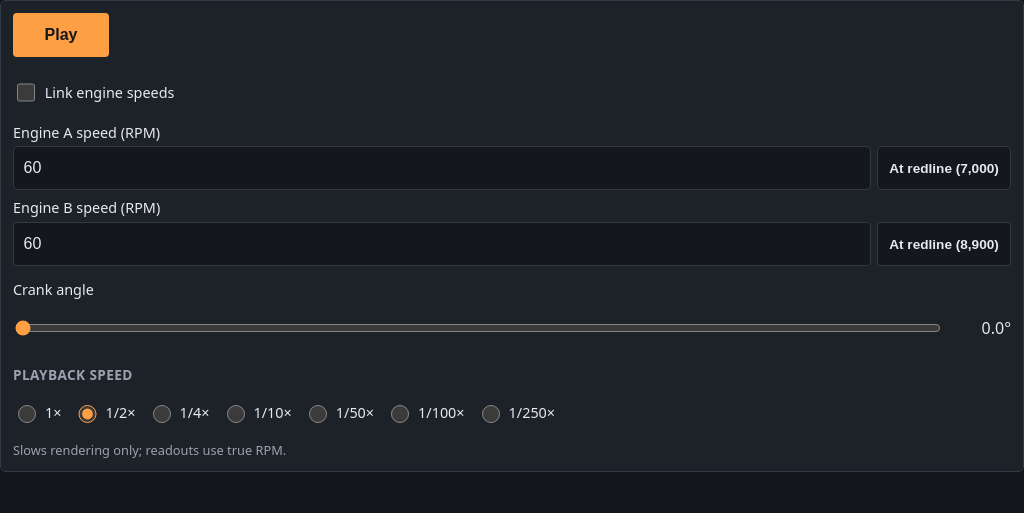
Test: AnimationControls › comparison mode: per-engine speed › rejects an invalid rpm for one engine without touching the other engine's rpm
Replace the text in the number field labelled "Engine A speed (RPM)" with "99999" at (442, 168), box 13,146 -> 871,190
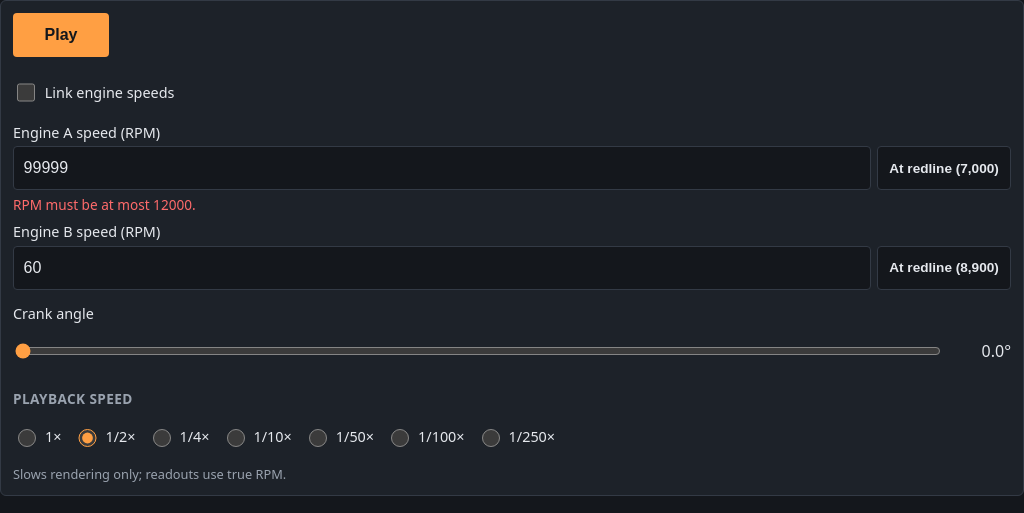
Result: the message "RPM must be at most 12000." is shown at 13,195 -> 196,214
